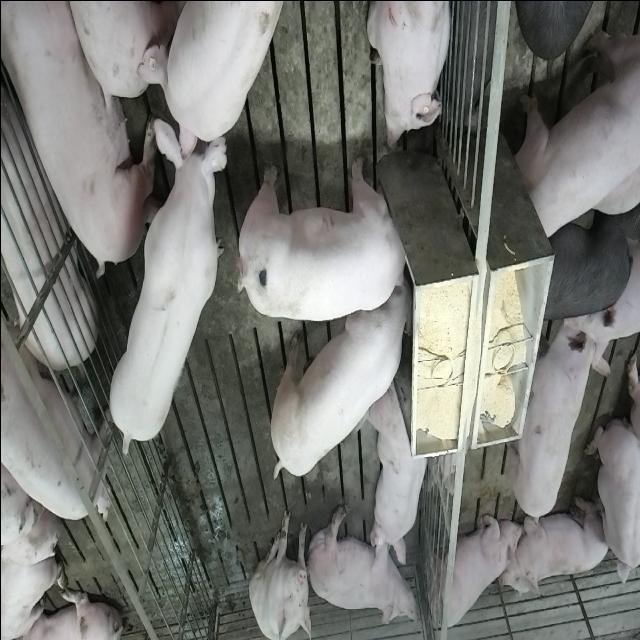Feeding: (264, 274, 412, 480), (232, 156, 408, 322)
Lateral_lying: (5, 0, 160, 273), (304, 503, 418, 629)
Sitting: (422, 501, 513, 635), (248, 507, 311, 638)
Standing: (105, 104, 226, 451), (514, 20, 638, 245), (0, 67, 92, 369), (0, 294, 110, 524), (512, 311, 610, 530), (152, 0, 283, 149), (542, 198, 636, 324)
Sternal_lying: (366, 0, 454, 150), (368, 381, 431, 568), (508, 493, 610, 597), (584, 413, 638, 594)
